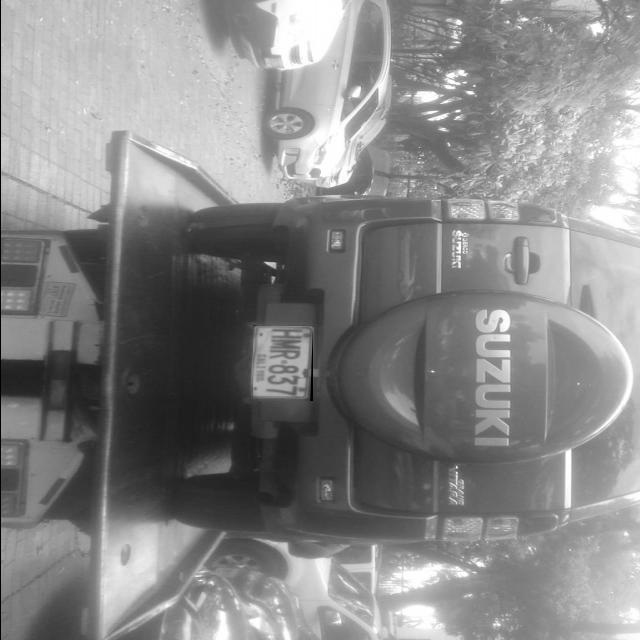plate: (252, 325, 312, 401)
